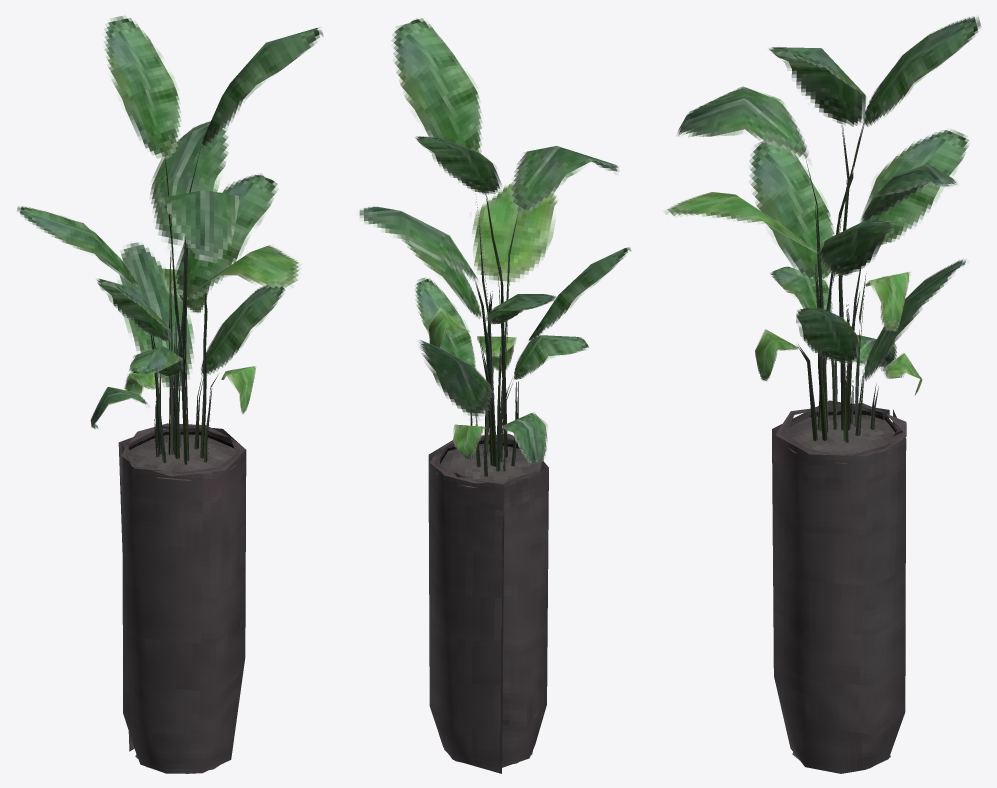
The picture shows the model from 3 angles, left to right: view 1: azimuth 30°, elevation 25°; view 2: azimuth 150°, elevation 25°; view 3: azimuth 270°, elevation 25°; orthographic projection. The views are drawn at different scales.
Parts seen in each view (by area): view 1: Ficus_plant; view 2: Ficus_plant; view 3: Ficus_plant.
Part boxes in pixels (bbox=[...]): Ficus_plant: bbox=[17, 15, 323, 773]; Ficus_plant: bbox=[356, 18, 631, 773]; Ficus_plant: bbox=[663, 15, 981, 773].
Size of the model in its own units: 0.4846 by 1.39 by 0.5309.
2 materials, 2 textured.
